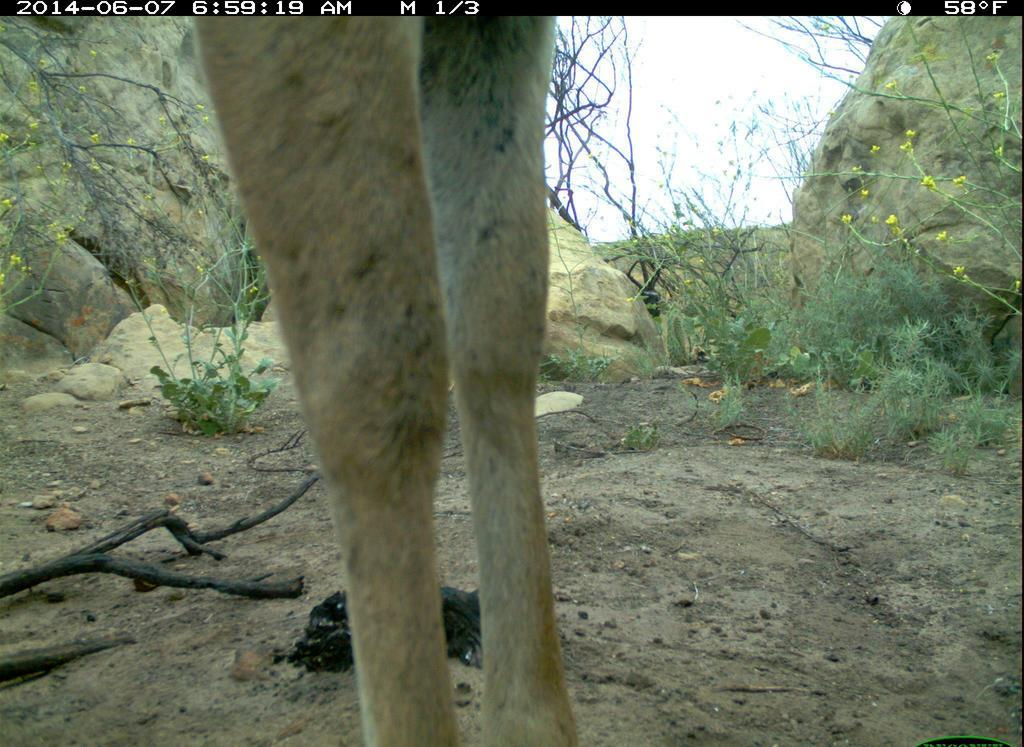deer: (186, 13, 596, 747)
